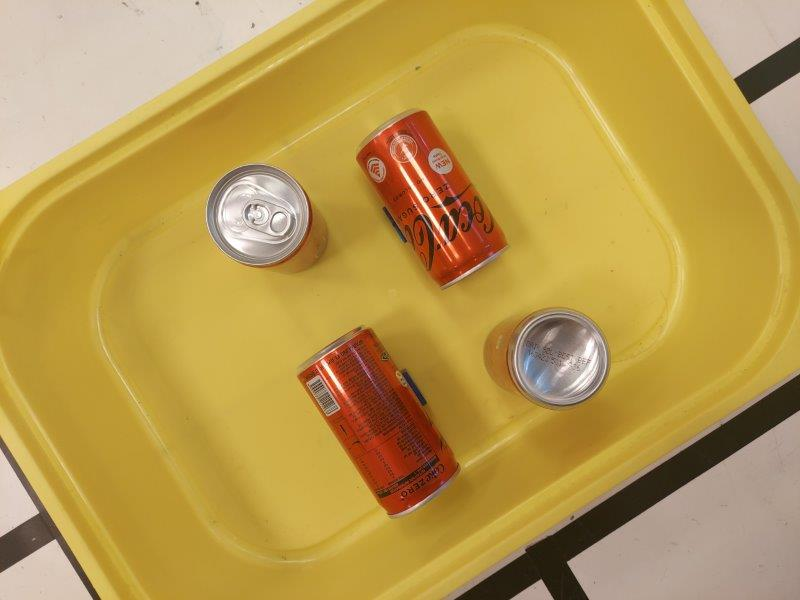Coke: (298, 324, 461, 518), (357, 107, 509, 291), (204, 163, 329, 276), (483, 307, 613, 409)
